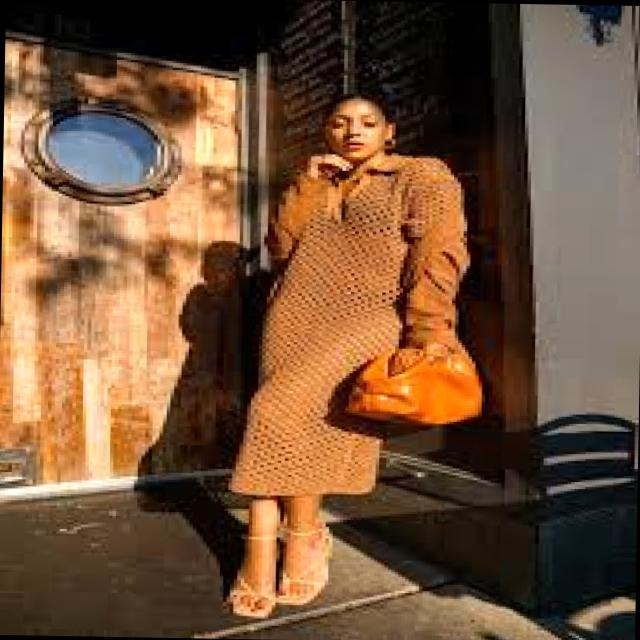dress: (229, 156, 467, 495)
